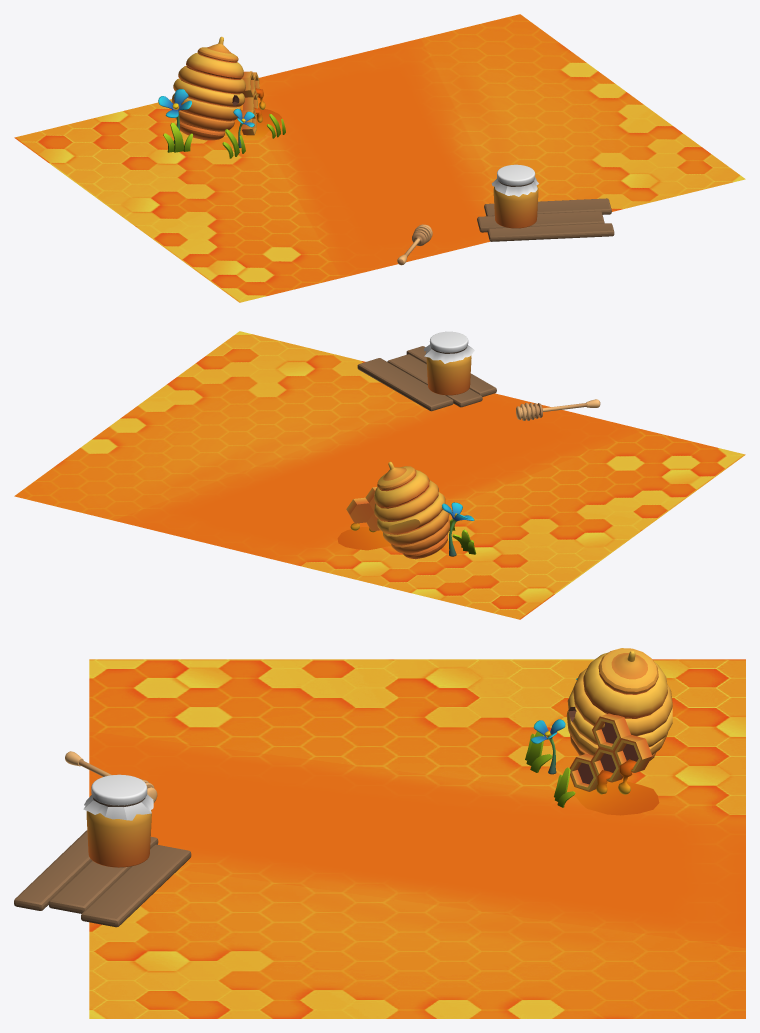
The picture shows the model from 3 angles, top to bottom: view 1: azimuth 30°, elevation 25°; view 2: azimuth 150°, elevation 25°; view 3: azimuth 270°, elevation 25°; orthographic projection. The views are drawn at different scales.
Visible parts, largest first — view 1: Plane.006, Cube.119, Object_466, Cylinder.033, Object_114, Object_462, Object_116, Object_464, Cube, Object_77.002, HoneyDipper_HoneyDipper_0; view 2: Plane.006, Cube.119, Object_464, Cylinder.033, Object_114, Object_116, Object_462, HoneyDipper_HoneyDipper_0, Object_466, Cube; view 3: Plane.006, Cube.119, Cylinder.033, Object_464, Object_114, Object_116, Object_466, Object_462, Cube.001.
Part boxes in pixels (x1,y1,x2,y2): Plane.006: [14, 14, 745, 302]; Cube.119: [172, 36, 245, 140]; Object_466: [487, 223, 614, 241]; Cylinder.033: [225, 71, 282, 140]; Object_114: [493, 185, 538, 228]; Object_462: [477, 211, 604, 232]; Object_116: [491, 164, 538, 196]; Object_464: [484, 198, 611, 216]; Cube: [158, 89, 191, 143]; Object_77.002: [163, 122, 192, 152]; HoneyDipper_HoneyDipper_0: [397, 224, 432, 265]; Plane.006: [14, 331, 745, 619]; Cube.119: [374, 461, 449, 559]; Object_464: [357, 358, 453, 411]; Cylinder.033: [337, 487, 391, 550]; Object_114: [426, 355, 471, 395]; Object_116: [424, 331, 474, 363]; Object_462: [387, 354, 482, 407]; HoneyDipper_HoneyDipper_0: [516, 399, 600, 420]; Object_466: [406, 346, 496, 396]; Cube: [442, 502, 474, 556]; Plane.006: [89, 659, 745, 1018]; Cube.119: [566, 648, 672, 760]; Cylinder.033: [567, 713, 659, 815]; Object_464: [81, 844, 191, 927]; Object_114: [86, 810, 151, 867]; Object_116: [83, 774, 153, 820]; Object_466: [14, 830, 91, 910]; Object_462: [48, 836, 158, 913]; Cube.001: [531, 719, 565, 774].
Bounding box in the file's own units: 98.74 × 17.15 × 84.98.
2 materials, 2 textured.
